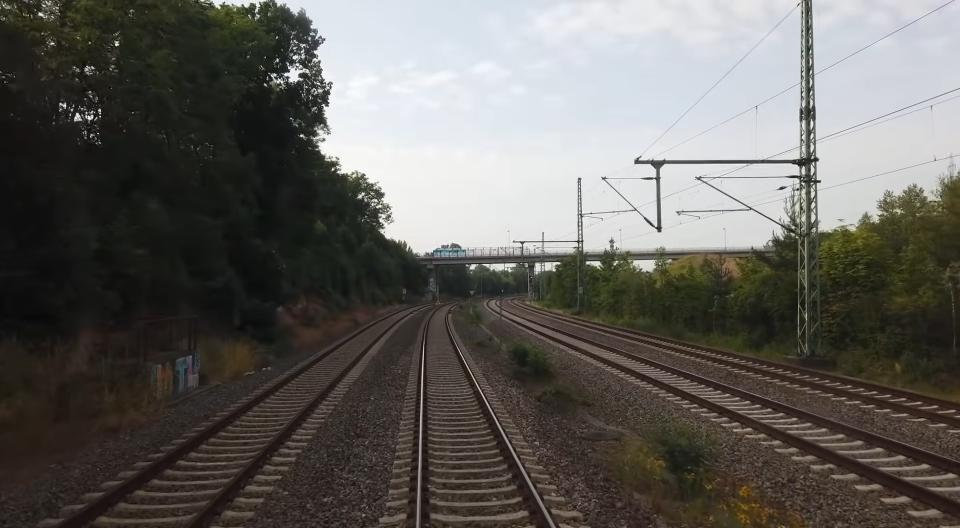Plant: (620, 417, 805, 528), (508, 340, 588, 418)
